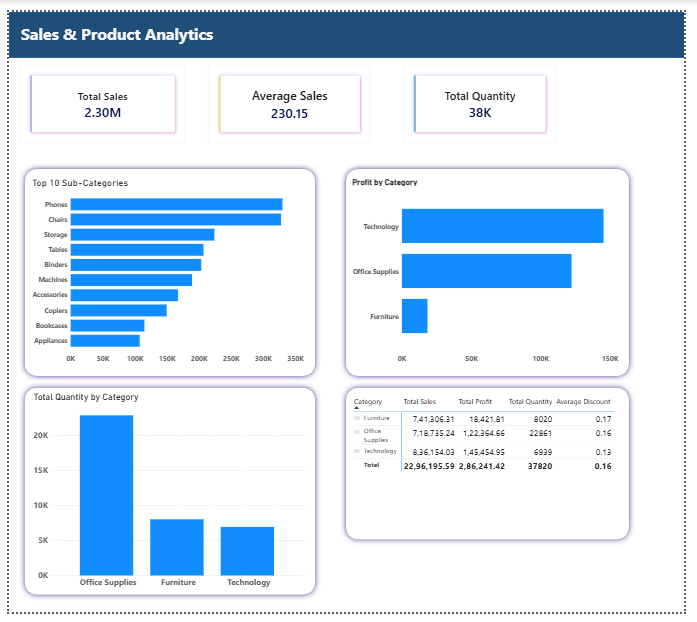

Layout of this report page (visuals, bound fields, positions):
{"tool":"powerbi","page":{"name":"📦 Product Performance","canvas":[1800,1600],"ordinal":1},"visuals":[{"type":"shape","box":[25,985,805,582.5],"z":1000},{"type":"clusteredColumnChart","fields":{"Category":["Retail Sales.Category"],"Y":["Retail Sales.Total Quantity"]},"box":[60,1012.5,735,532.5],"z":2000},{"type":"shape","box":[0,0,2100,122.5],"z":3000},{"type":"textbox","box":[25,22.5,602.5,100],"z":4000},{"type":"cardVisual","fields":{"Data":["Retail Sales.Total Sales"]},"box":[25,140,445,210],"z":5000},{"type":"cardVisual","fields":{"Data":["Retail Sales.Total Quantity"]},"box":[1050,140,410,210],"z":6000},{"type":"cardVisual","fields":{"Data":["Retail Sales.Average Sales"]},"box":[530,140,435,210],"z":7000},{"type":"shape","box":[882.5,402.5,785,582.5],"z":8000},{"type":"shape","box":[25,402.5,805,582.5],"z":9000},{"type":"shape","box":[882.5,987.5,785,435],"z":9500},{"type":"clusteredBarChart","title":" Profit by Category","fields":{"Y":["Retail Sales.Total Profit"],"Category":["Retail Sales.Category"]},"box":[910,440,757.5,507.5],"z":10000},{"type":"pivotTable","fields":{"Rows":["Retail Sales.Category","Retail Sales.Sub-Category"],"Values":["Retail Sales.Total Sales","Retail Sales.Total Profit","Retail Sales.Total Quantity","Retail Sales.Average Discount"]},"box":[910,1017.5,732.5,402.5],"z":10500},{"type":"clusteredBarChart","title":"Top 10 Sub-Categories","fields":{"Y":["Retail Sales.Total Sales"],"Category":["Retail Sales.Sub-Category"]},"box":[57.5,440,735,507.5],"z":11000}]}

Visuals, with their boxes in screenshot pixels (x1, y1, x2, y2), scaled from the page's 1800x1600 canvas onto the 697x622 screenshot:
shape: [x1=10, y1=383, x2=321, y2=609]
clusteredColumnChart - Retail Sales.Category x Retail Sales.Total Quantity: [x1=23, y1=394, x2=308, y2=601]
shape: [x1=0, y1=0, x2=696, y2=48]
textbox: [x1=10, y1=9, x2=243, y2=48]
cardVisual - Retail Sales.Total Sales: [x1=10, y1=54, x2=182, y2=136]
cardVisual - Retail Sales.Total Quantity: [x1=407, y1=54, x2=565, y2=136]
cardVisual - Retail Sales.Average Sales: [x1=205, y1=54, x2=374, y2=136]
shape: [x1=342, y1=156, x2=646, y2=383]
shape: [x1=10, y1=156, x2=321, y2=383]
shape: [x1=342, y1=384, x2=646, y2=553]
" Profit by Category" clusteredBarChart: [x1=352, y1=171, x2=646, y2=368]
pivotTable - Retail Sales.Category x Retail Sales.Sub-Category: [x1=352, y1=396, x2=636, y2=552]
"Top 10 Sub-Categories" clusteredBarChart: [x1=22, y1=171, x2=307, y2=368]
